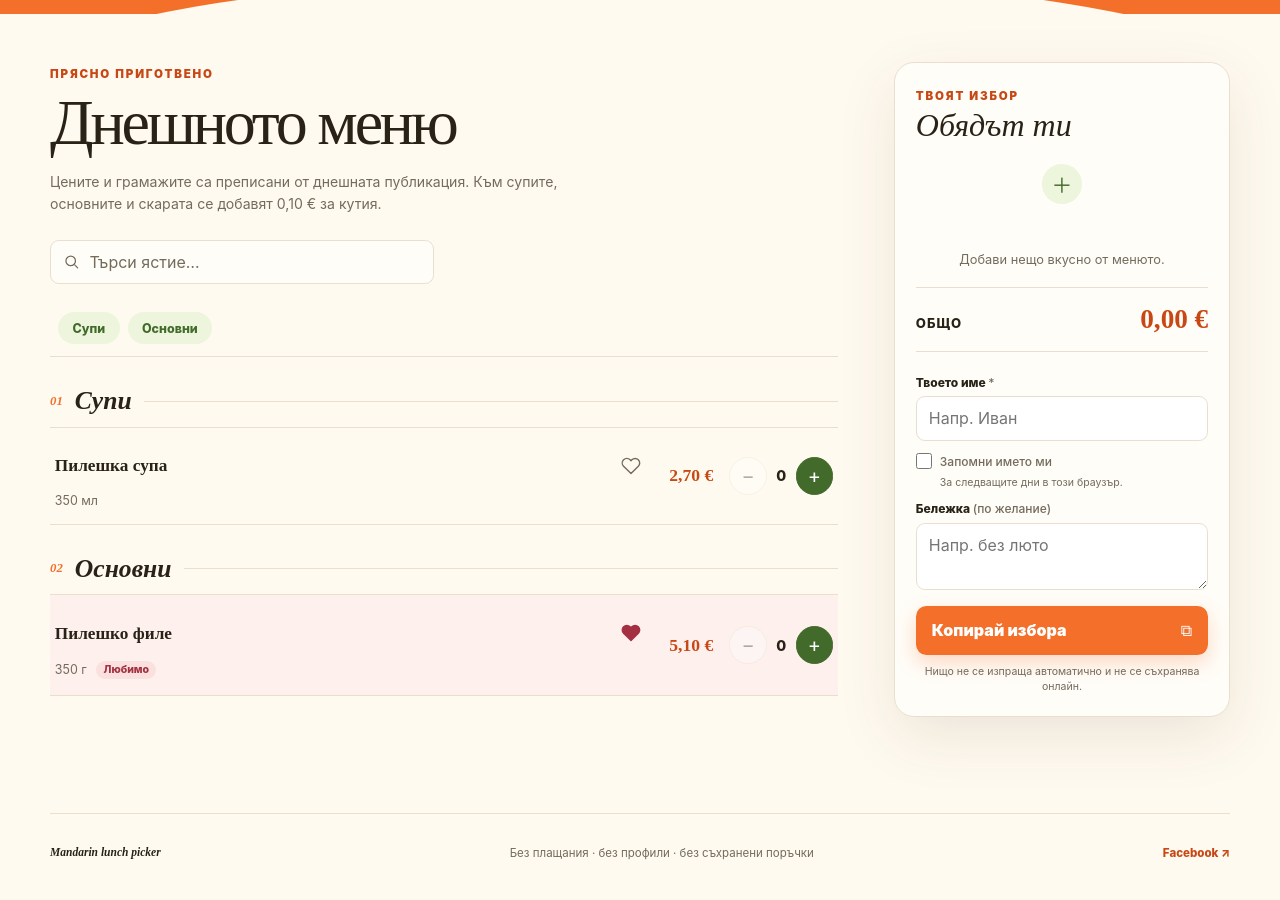
dish favorites › external clear (mandarin-favorite-dishes-v1) removes saved favorites and retains only unsaved choices
(page scrolled)
Click the button named "Любимо ястие: Пилешка супа" at point(631, 466), box top-left (609, 444), bottom-right (653, 488)
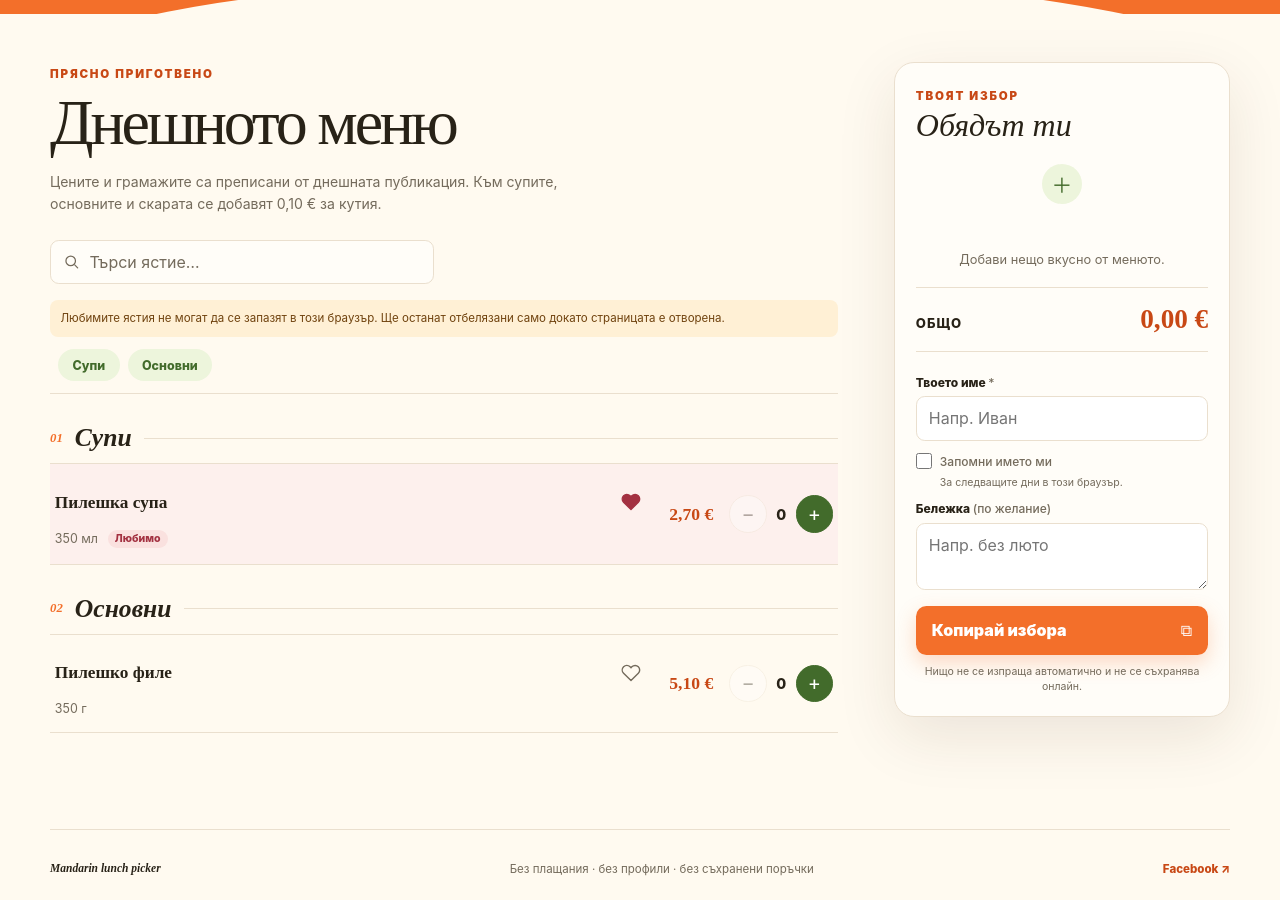
Check: the button named "Любимо ястие: Пилешка супа" is shown, box top-left (609, 480), bottom-right (653, 524)
Check: the text "Любимите ястия не могат да се запазят" is shown, box top-left (60, 311), bottom-right (725, 325)
